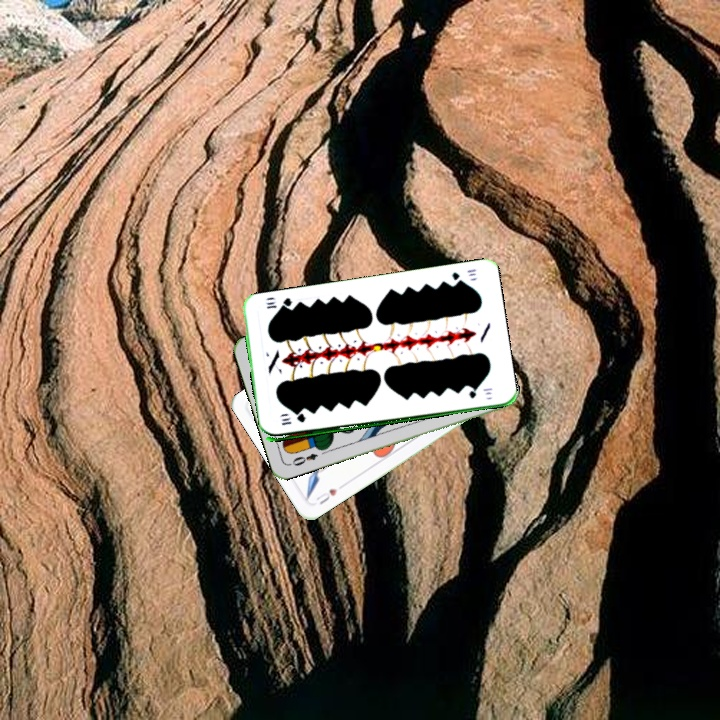EO: (285, 449, 320, 469)
G10: (448, 265, 478, 286), (277, 412, 308, 428)
HU: (312, 484, 340, 507)
